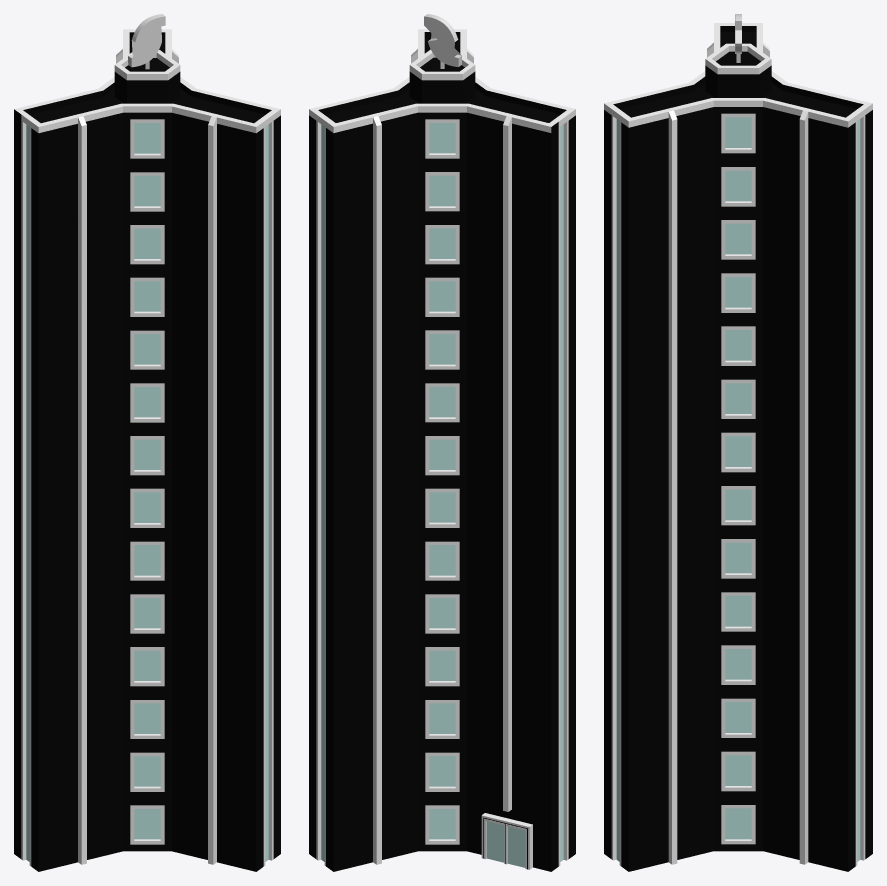
Rendered from SkyScraber4.fbx.
3 renders of one model, left to right at view 1: azimuth 30°, elevation 25°; view 2: azimuth 150°, elevation 25°; view 3: azimuth 270°, elevation 25°, orthographic.
Parts seen in each view (by area): view 1: SkyScraber3, SafePlaceLogo; view 2: SkyScraber3, SafePlaceLogo; view 3: SkyScraber3.
Part boxes in pixels (<box>): SkyScraber3: <box>14,29,280,871</box>; SafePlaceLogo: <box>128,14,165,69</box>; SkyScraber3: <box>309,29,575,871</box>; SafePlaceLogo: <box>424,14,461,68</box>; SkyScraber3: <box>604,23,872,871</box>.
Size of the model in its own units: 6301 by 24513 by 7276.
